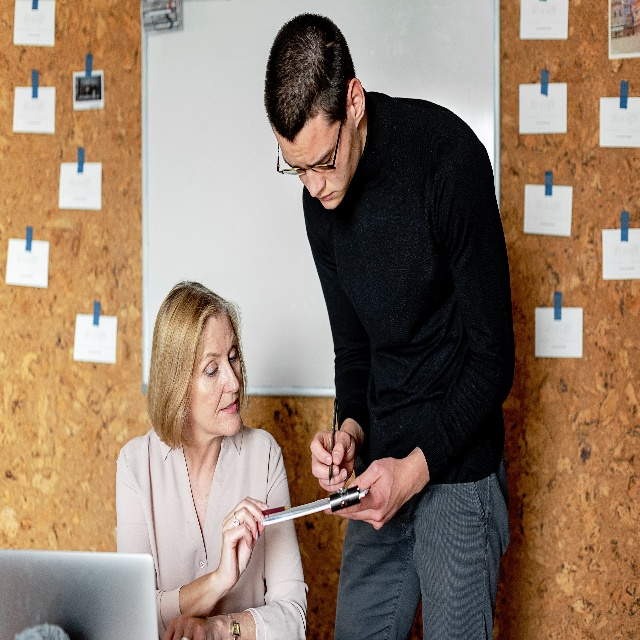Gafas: (274, 142, 344, 175)
Sin_guantes: (315, 458, 400, 537), (219, 499, 268, 577), (307, 425, 360, 484), (164, 619, 213, 640)
